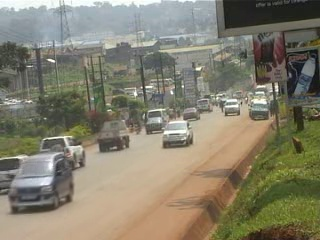Car: (6, 151, 76, 213), (36, 133, 88, 169), (0, 152, 28, 194), (160, 120, 195, 147), (143, 115, 166, 135), (221, 97, 242, 116), (181, 105, 201, 123)
Motorcycle: (244, 96, 248, 105)
